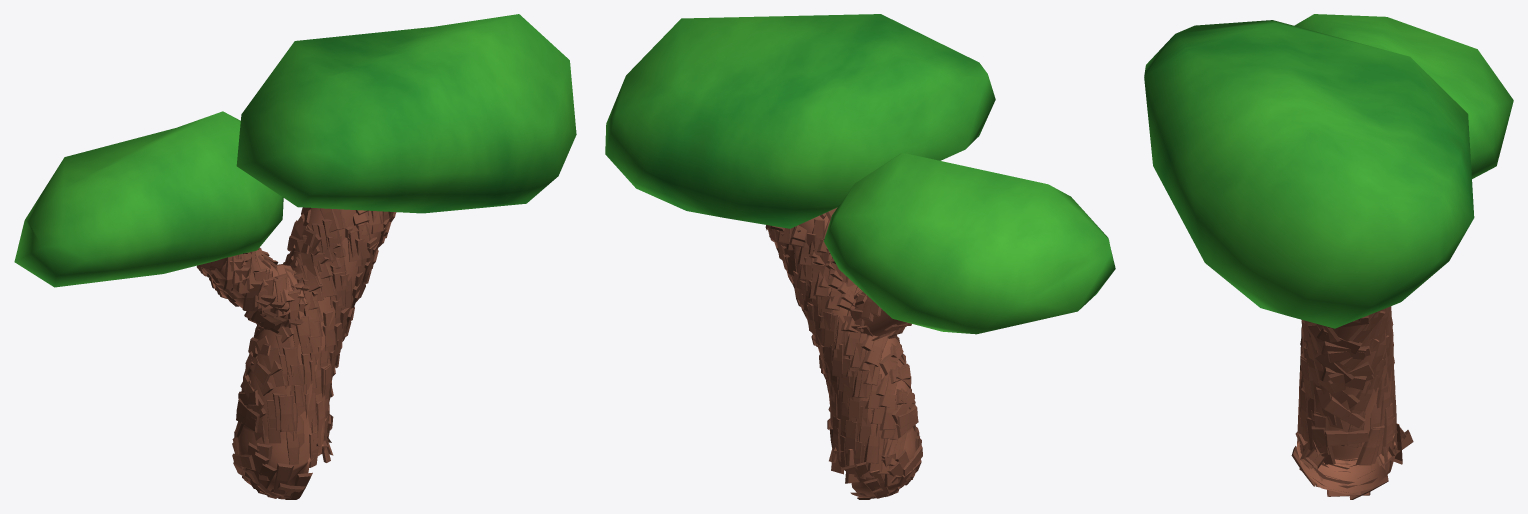
The model's file is Tree 3.obj.
3 views of the same model, side by side, from view 1: azimuth 30°, elevation 25°; view 2: azimuth 150°, elevation 25°; view 3: azimuth 270°, elevation 25° (orthographic). The views are drawn at different scales.
Parts seen in each view (by area): view 1: Tree_trunk_2; view 2: Tree_trunk_2; view 3: Tree_trunk_2.
Boxes of the visible parts, x1,y1,x2,y2 form: Tree_trunk_2: (14, 14, 576, 499); Tree_trunk_2: (605, 14, 1115, 499); Tree_trunk_2: (1144, 14, 1513, 499).
Bounding box in the file's own units: 7.78 × 6.32 × 4.41.
Materials: 4 (4 with a texture image).
